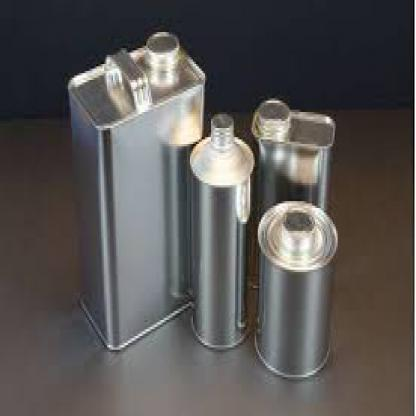METAL: (64, 27, 204, 348), (187, 107, 253, 352), (250, 96, 333, 290), (255, 199, 330, 379)
